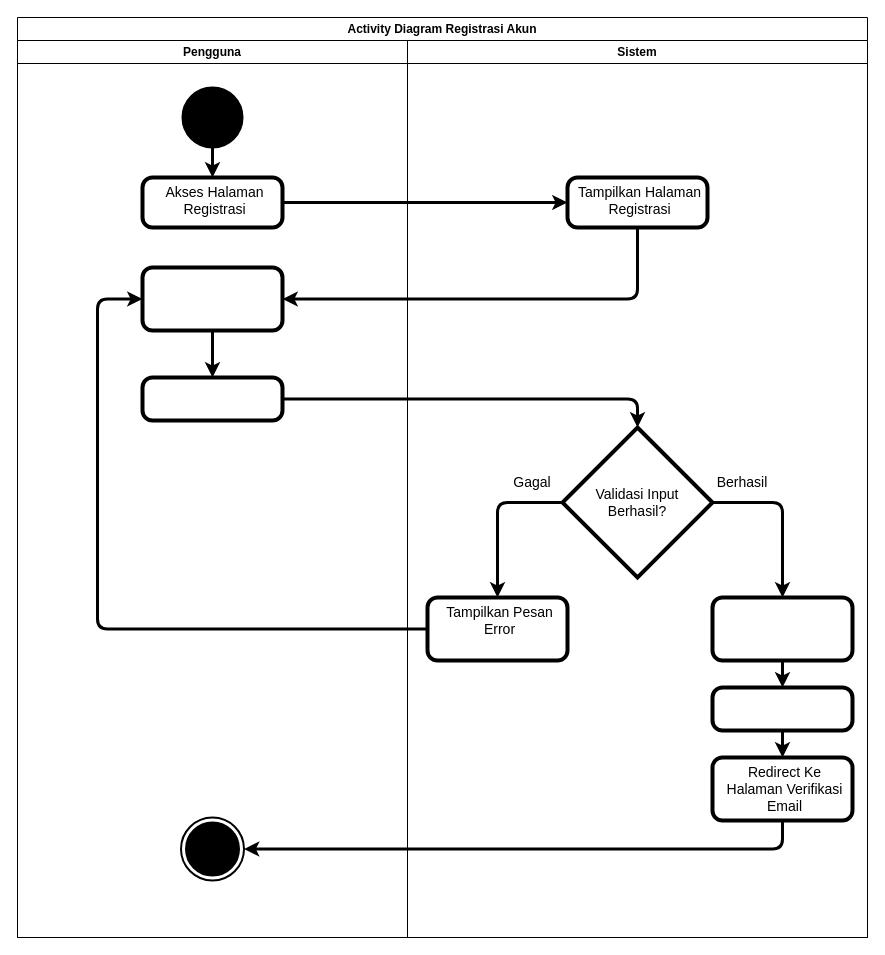
Image size: 885x955. Some labels were removed from this diagram. Each missing label, with the centre of its shape:
"Isi Form Nama, Email, Password, Konfirmasi Password" goes at point (212, 298).
"Kirim Email Verifikasi" goes at point (782, 708).
"Klik Tombol Daftar" goes at point (212, 398).
"Simpan Data User Ke Database dengan role = 'user'" goes at point (782, 628).
